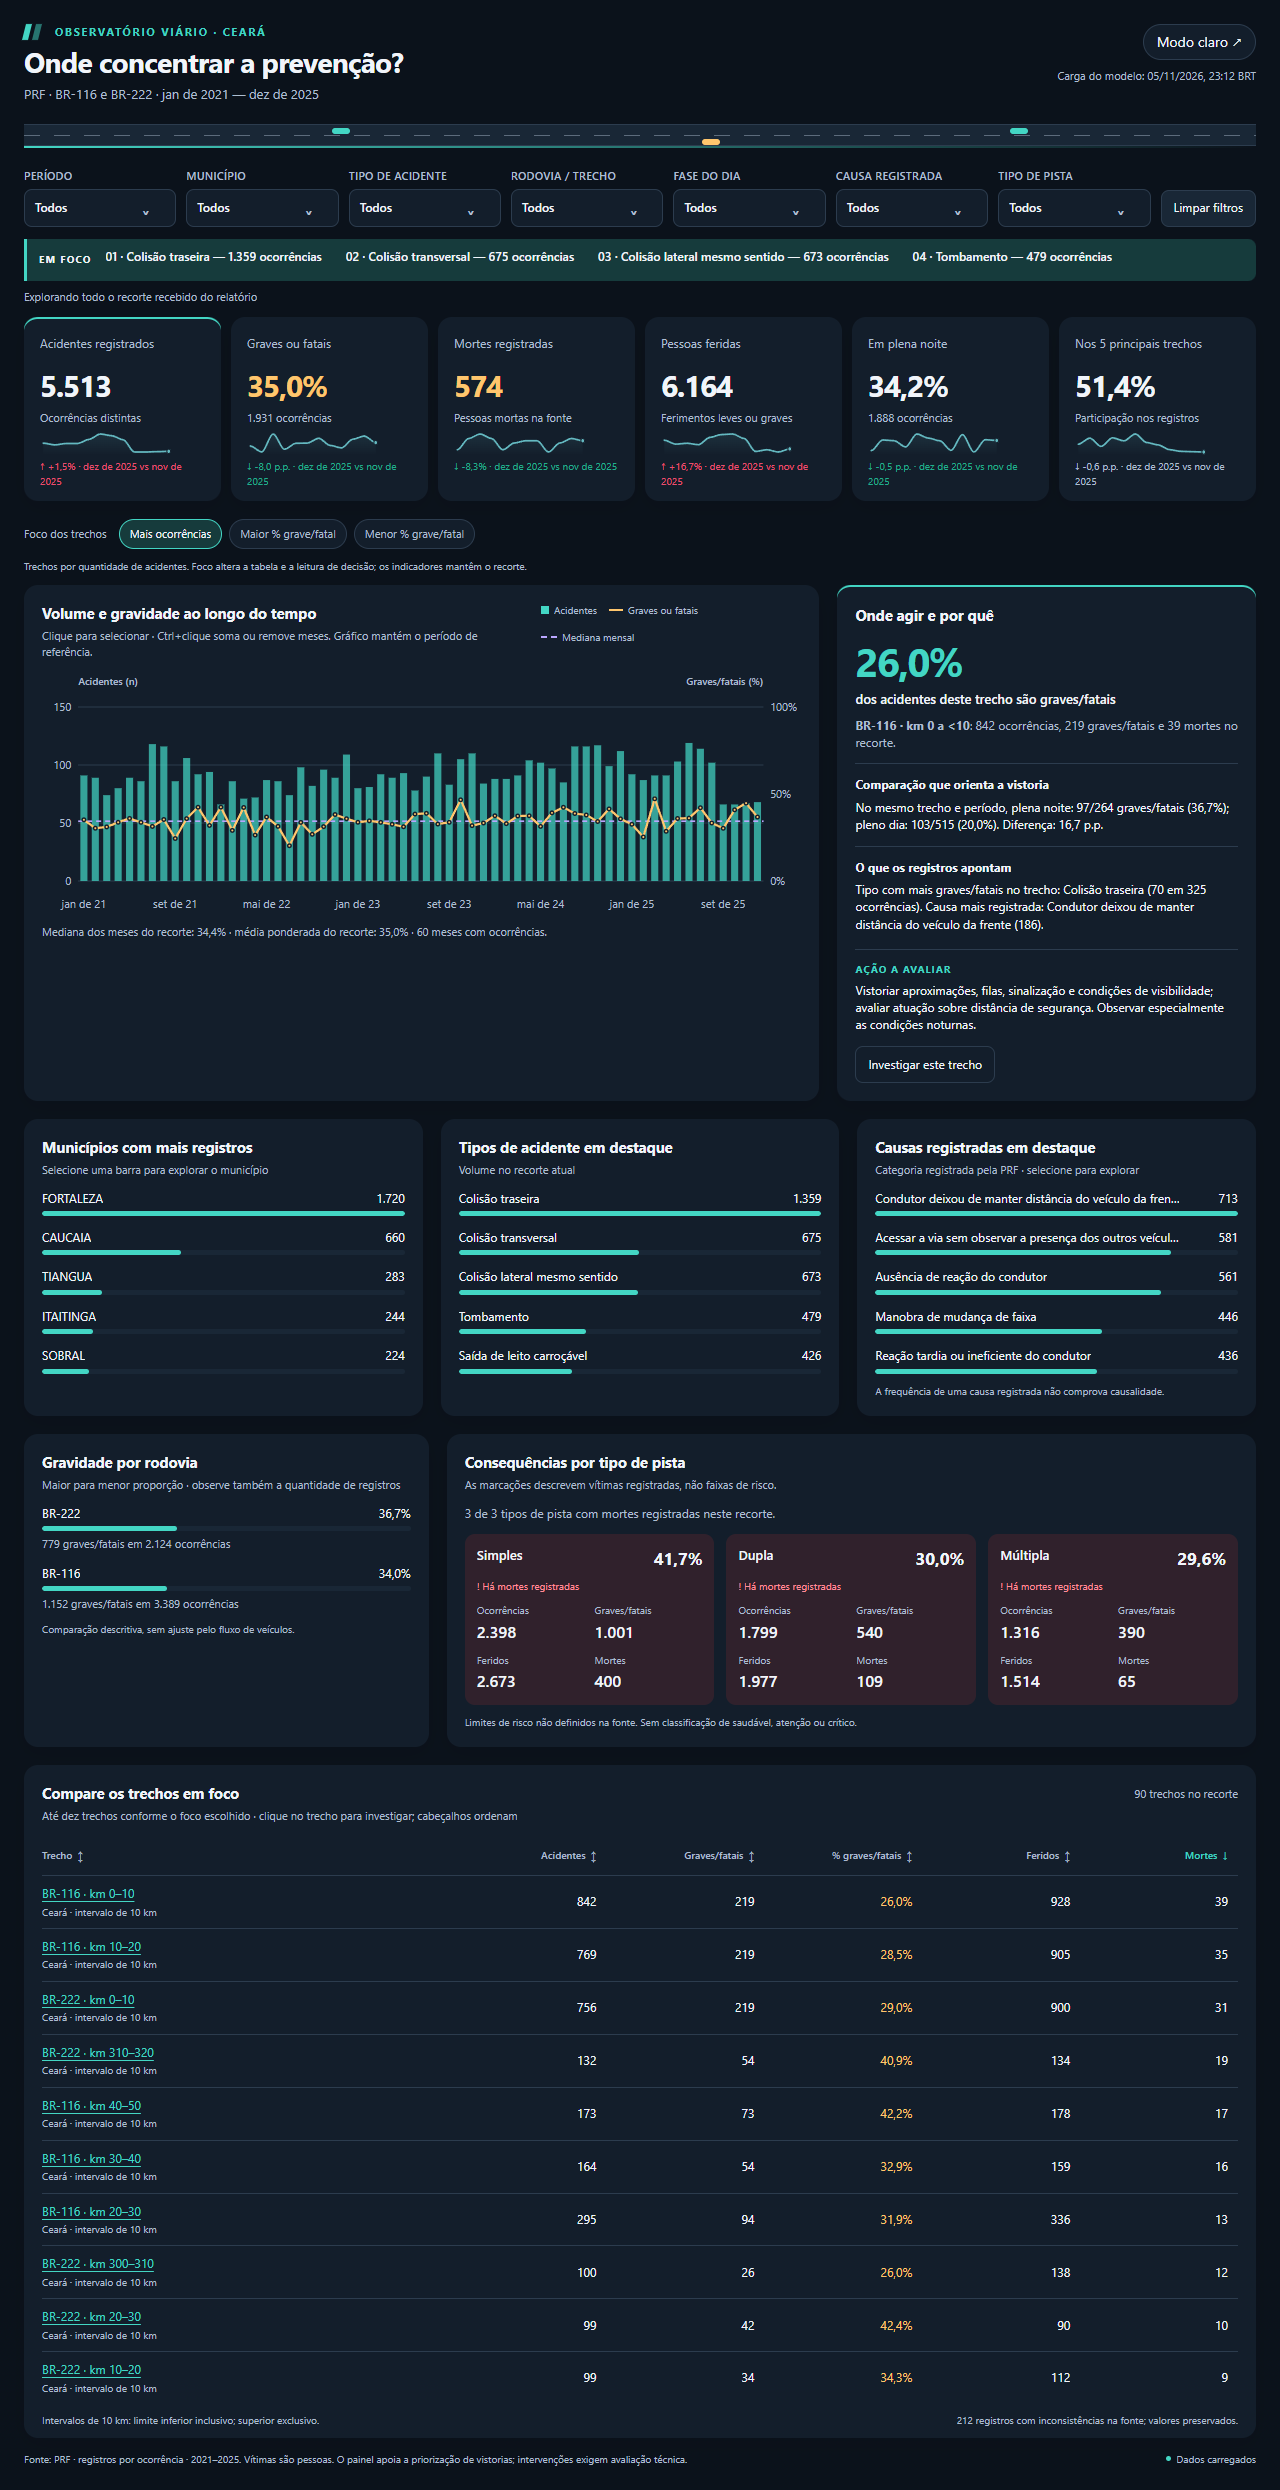

The page's visual inventory and layout, read from the dashboard file:
{"tool":"powerbi","page":{"name":"Página 2","canvas":[1280,720],"ordinal":1},"visuals":[{"type":"htmlContent443BE3AD55E043BF878BED274D3A6855","fields":{"content":["fAcidentes.HTML Dashboard PRF"]},"box":[0,0,1279.8,720.2],"z":0}]}

Visuals, with their boxes on the page's 1280x720 design canvas (x1, y1, x2, y2). These are canvas units, not pixel positions in the 1280x2490 screenshot, which may show the page scaled, cropped or inside an application window:
htmlContent443BE3AD55E043BF878BED274D3A6855 - fAcidentes.HTML Dashboard PRF: <box>0,0,1280,720</box>
